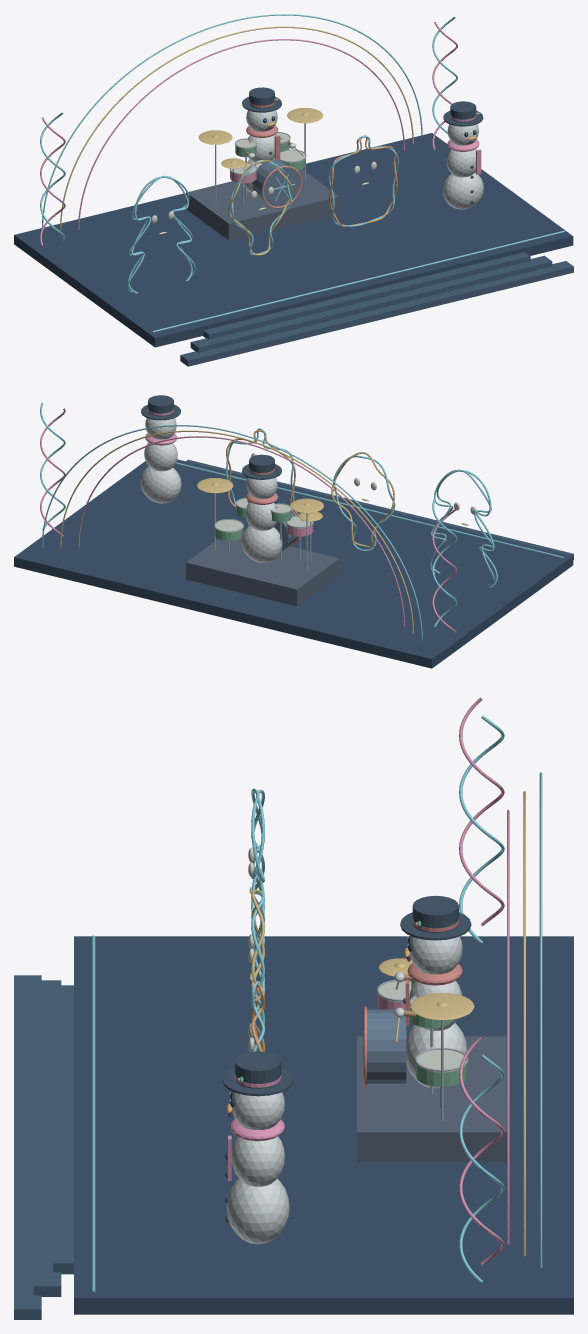
The model's file is faces_Refined_3D.glb.
3 renders of one model, top to bottom at view 1: azimuth 30°, elevation 25°; view 2: azimuth 150°, elevation 25°; view 3: azimuth 270°, elevation 25°, orthographic. The views are drawn at different scales.
Parts seen in each view (by area): view 1: stage_0, drum_riser_4, step_2_3, step_1_2, step_0_1, kick_shell_25, face_snowman_base_70, stage_arch_curve_4, stage_arch_curve_5, stage_front_curve_7, stage_arch_curve_6, face_snowman_torso_71 (+12 smaller); view 2: stage_0, drum_riser_4, face_snowman_base_70, drummer_base_5, stage_arch_curve_4, stage_arch_curve_5, stage_arch_curve_6, stage_front_curve_7, face_snowman_torso_71, tree_helix_rail_curve_13, drummer_torso_6, tree_helix_rail_curve_14 (+17 smaller); view 3: stage_0, drum_riser_4, step_2_3, step_1_2, step_0_1, face_snowman_base_70, kick_shell_25, face_snowman_torso_71, stage_arch_curve_4, drummer_head_7, face_snowman_head_72, drummer_base_5 (+13 smaller).
Boxes of the visible parts, box(x1,y1,x2,y2) form: stage_0: box(14, 133, 573, 347); drum_riser_4: box(186, 169, 339, 240); step_2_3: box(180, 261, 573, 366); step_1_2: box(190, 255, 552, 352); step_0_1: box(203, 252, 530, 339); kick_shell_25: box(252, 159, 299, 206); face_snowman_base_70: box(442, 172, 483, 209); stage_arch_curve_4: box(42, 14, 422, 227); stage_arch_curve_5: box(60, 26, 413, 229); stage_front_curve_7: box(153, 230, 564, 332); stage_arch_curve_6: box(78, 39, 404, 229); face_snowman_torso_71: box(446, 149, 476, 177); stage_0: box(14, 459, 573, 668); drum_riser_4: box(186, 538, 339, 606); face_snowman_base_70: box(140, 466, 181, 503); drummer_base_5: box(241, 526, 282, 562); stage_arch_curve_4: box(42, 425, 422, 640); stage_arch_curve_5: box(60, 430, 413, 633); stage_arch_curve_6: box(78, 436, 404, 626); stage_front_curve_7: box(175, 462, 563, 558); face_snowman_torso_71: box(144, 442, 177, 471); tree_helix_rail_curve_13: box(429, 469, 497, 587); drummer_torso_6: box(245, 502, 276, 530); tree_helix_rail_curve_14: box(430, 469, 495, 585); stage_0: box(74, 936, 573, 1314); drum_riser_4: box(357, 1036, 506, 1162); step_2_3: box(14, 975, 41, 1319); step_1_2: box(33, 980, 61, 1296); step_0_1: box(53, 985, 73, 1274); face_snowman_base_70: box(226, 1178, 289, 1244); kick_shell_25: box(367, 1009, 406, 1083); face_snowman_torso_71: box(231, 1136, 284, 1186); stage_arch_curve_4: box(539, 772, 542, 1267); drummer_head_7: box(409, 936, 462, 974); face_snowman_head_72: box(232, 1092, 284, 1129); drummer_base_5: box(406, 1023, 467, 1088).
Size of the model in its own units: 13 by 5.65 by 8.51.
